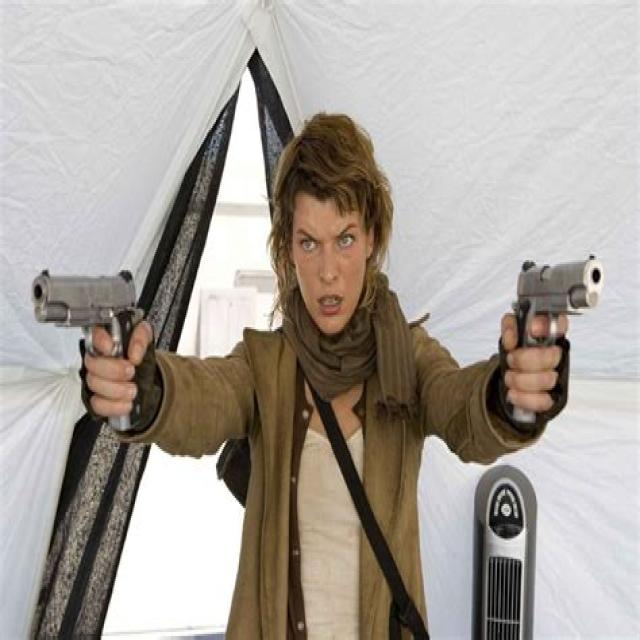weapons: (22, 226, 168, 445), (494, 238, 618, 437)
